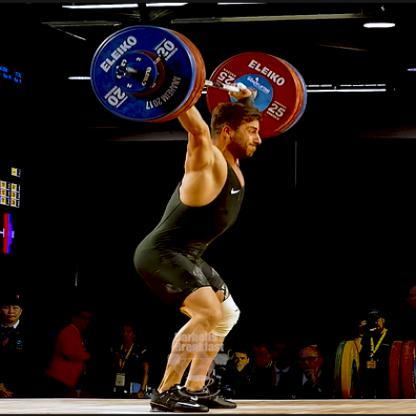Barbell: (115, 63, 132, 81)
